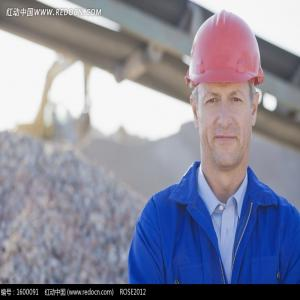red: (190, 13, 260, 173)
